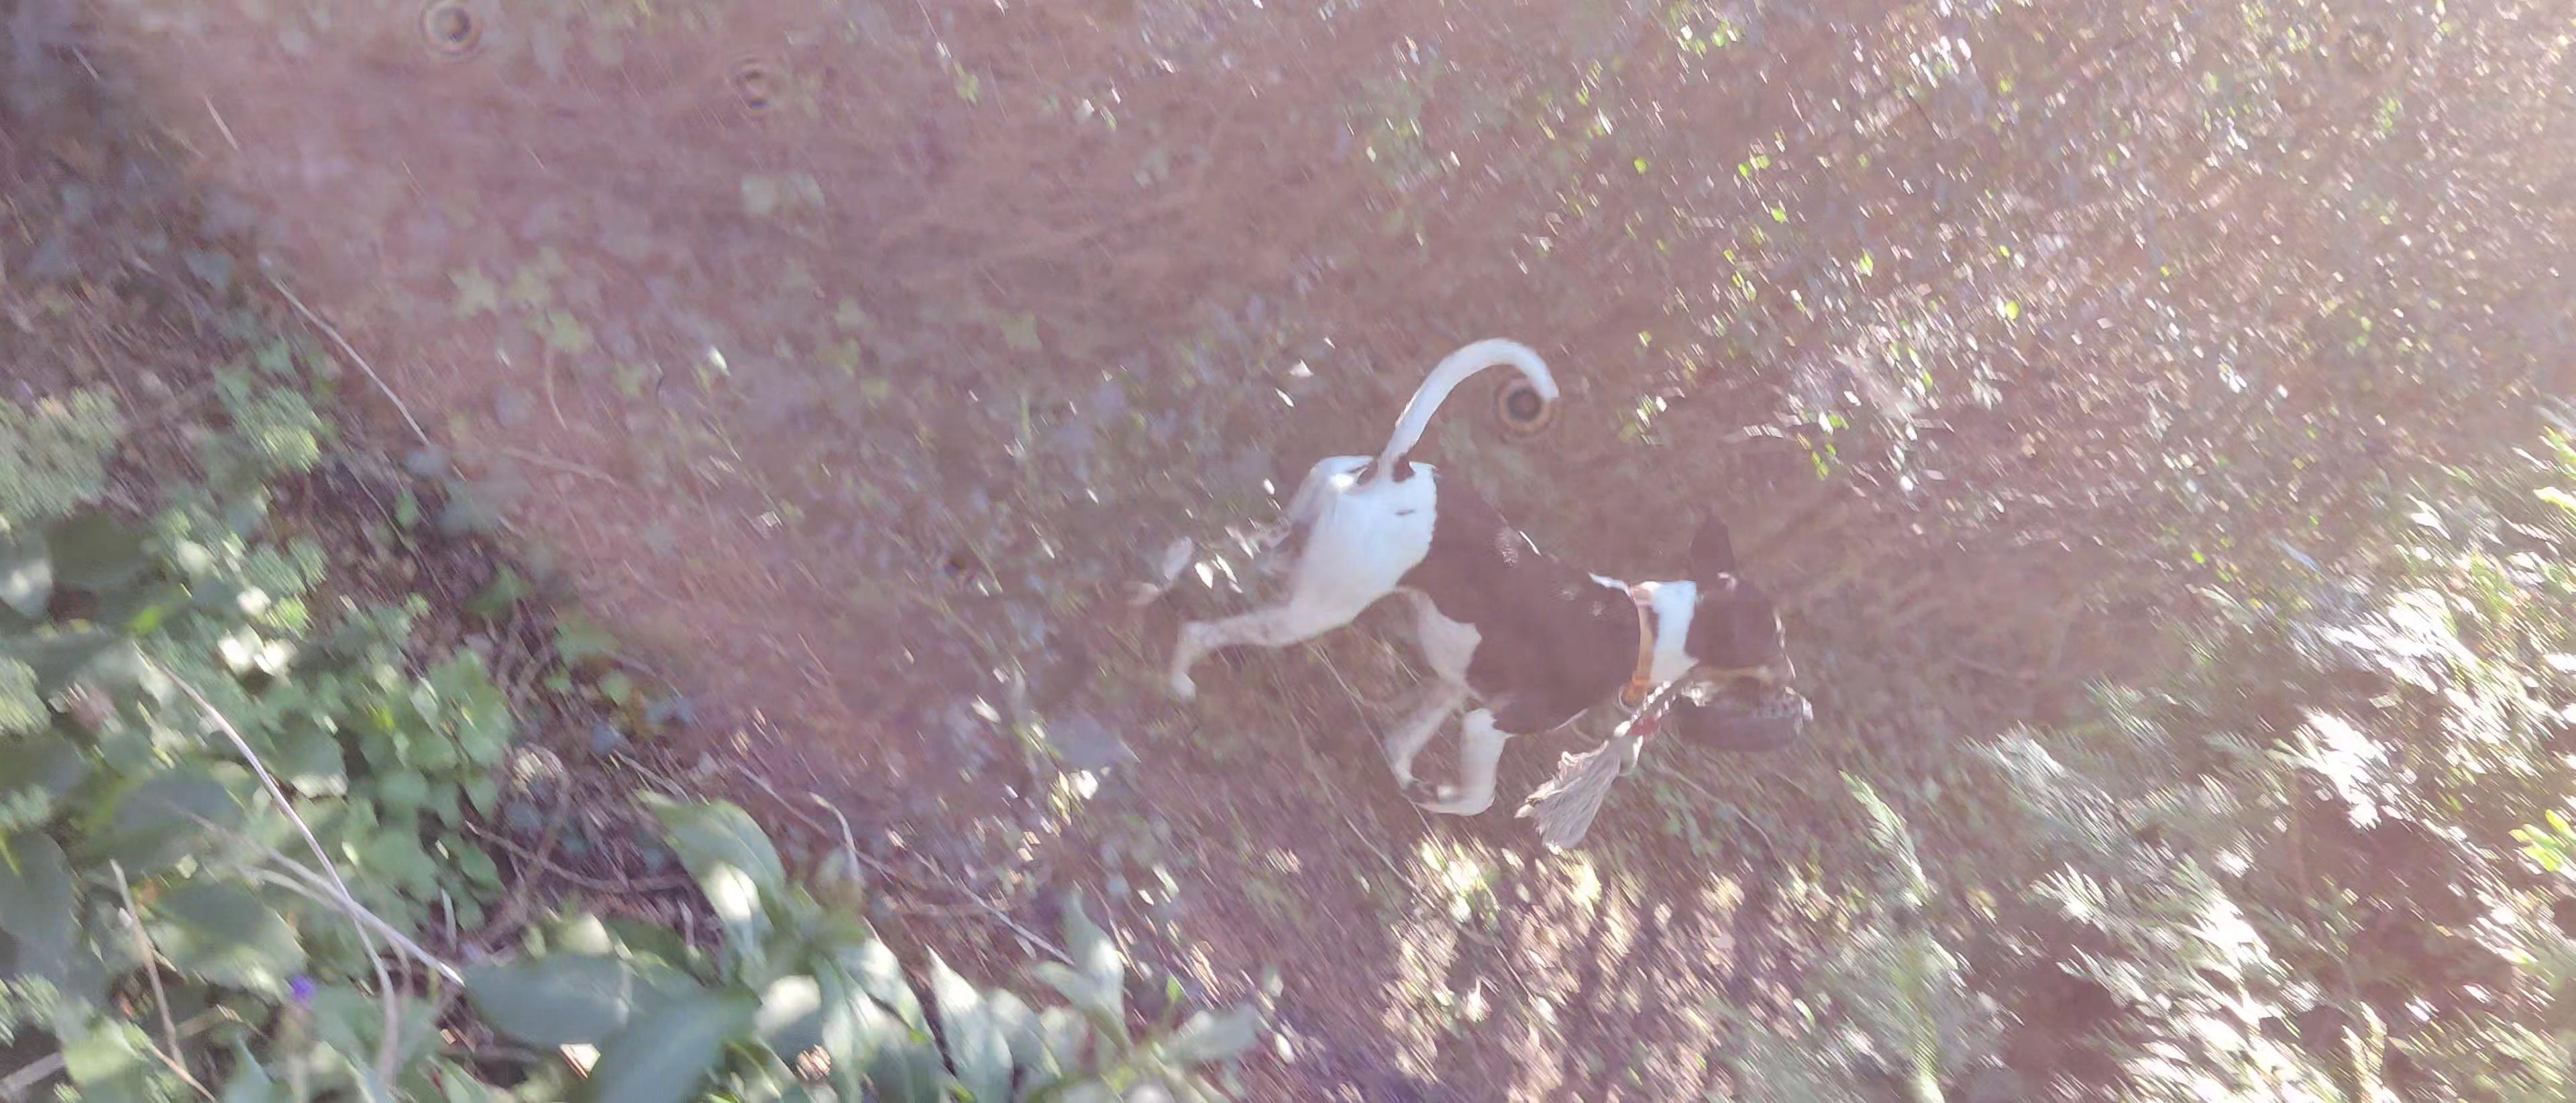Dog: (1119, 334, 1796, 819)
